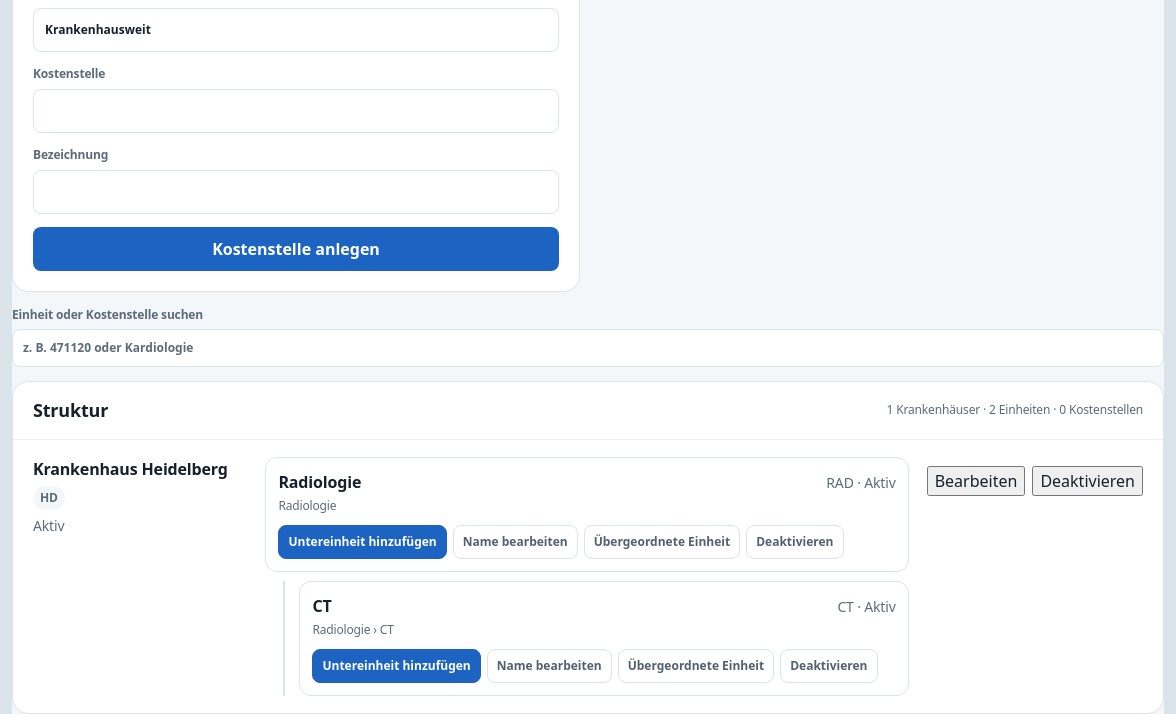
Test case: Organisationsstrukturverwaltung › legt eine Untereinheit mit der gewählten Elterneinheit an
(page scrolled)
Click the 1st button "Untereinheit hinzufügen": coordinates (363, 542) top-left (278, 525), bottom-right (447, 559)
(page scrolled)
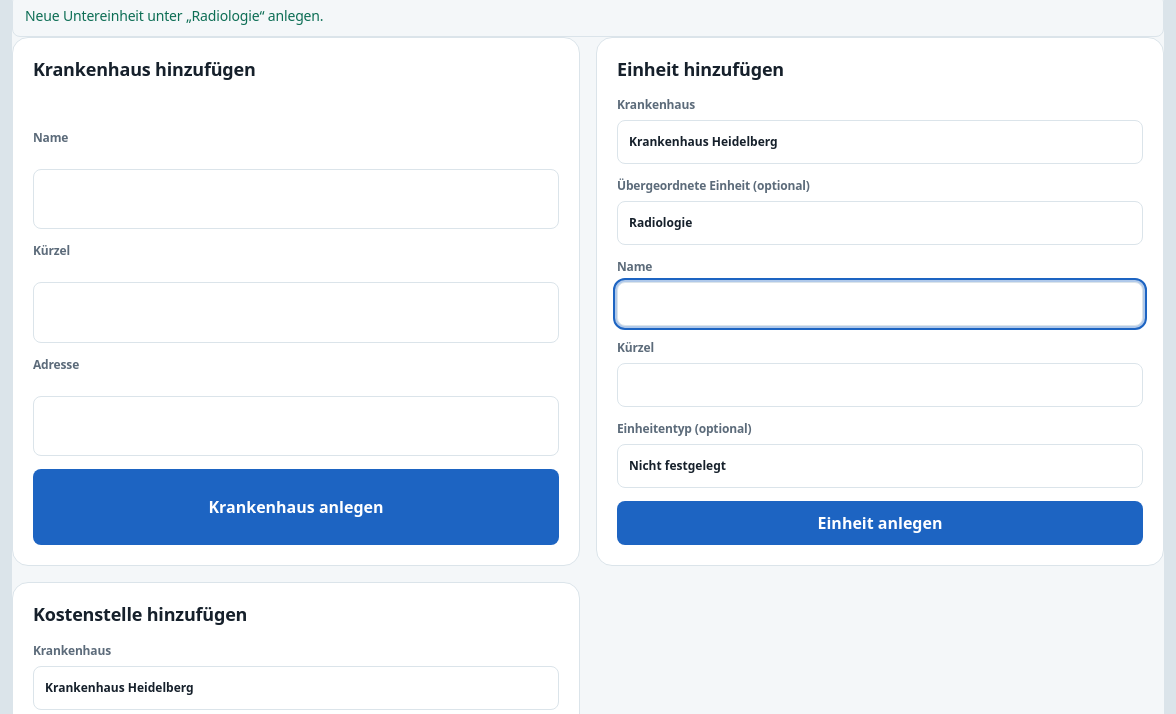
Expected: the form "Einheit hinzufügen" is shown, top-left (596, 37), bottom-right (1164, 566)
In the field labelled "Name" below "Übergeordnete Einheit (optional)": coordinates (880, 304) top-left (617, 282), bottom-right (1143, 326), type "Röntgen"
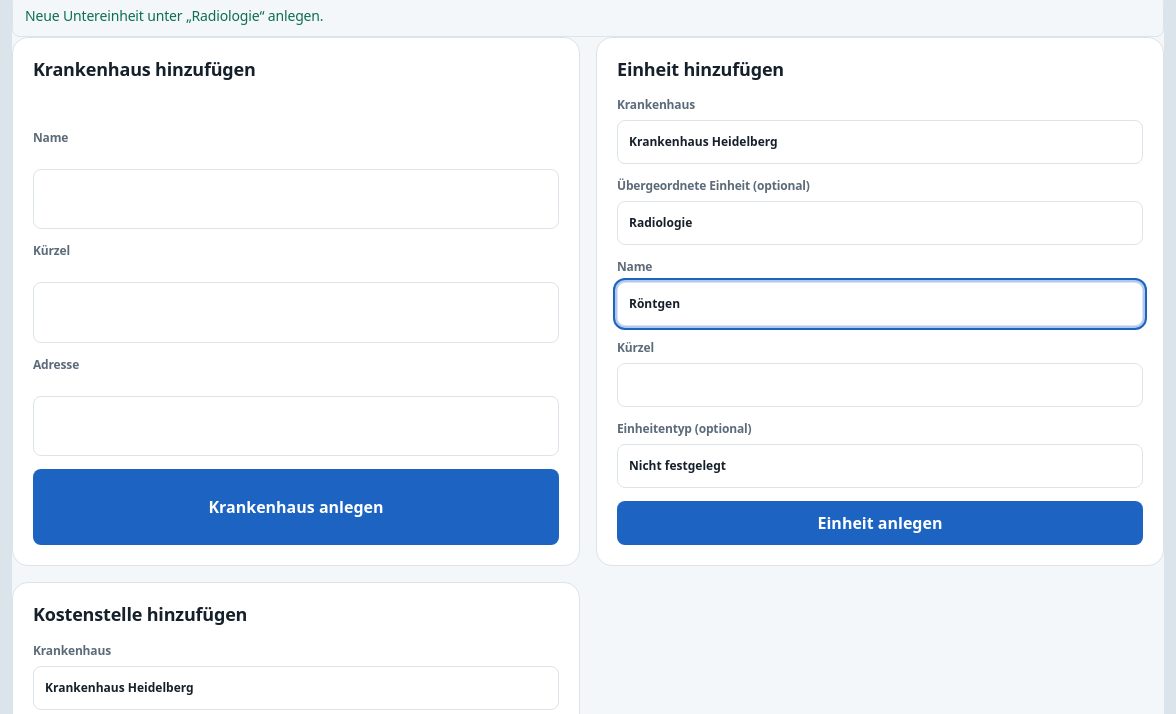
In the field labelled "Kürzel" below "Übergeordnete Einheit (optional)": coordinates (880, 385) top-left (617, 363), bottom-right (1143, 407), type "ROE"
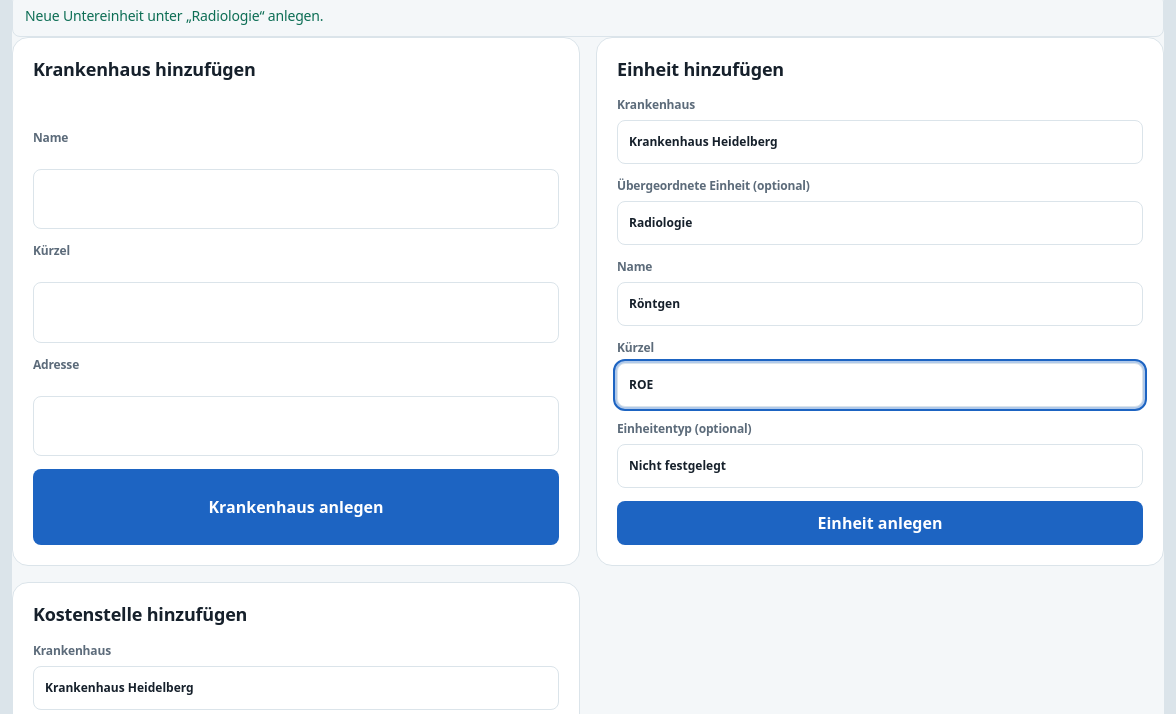
Click the button "Einheit anlegen": coordinates (880, 523) top-left (617, 501), bottom-right (1143, 545)
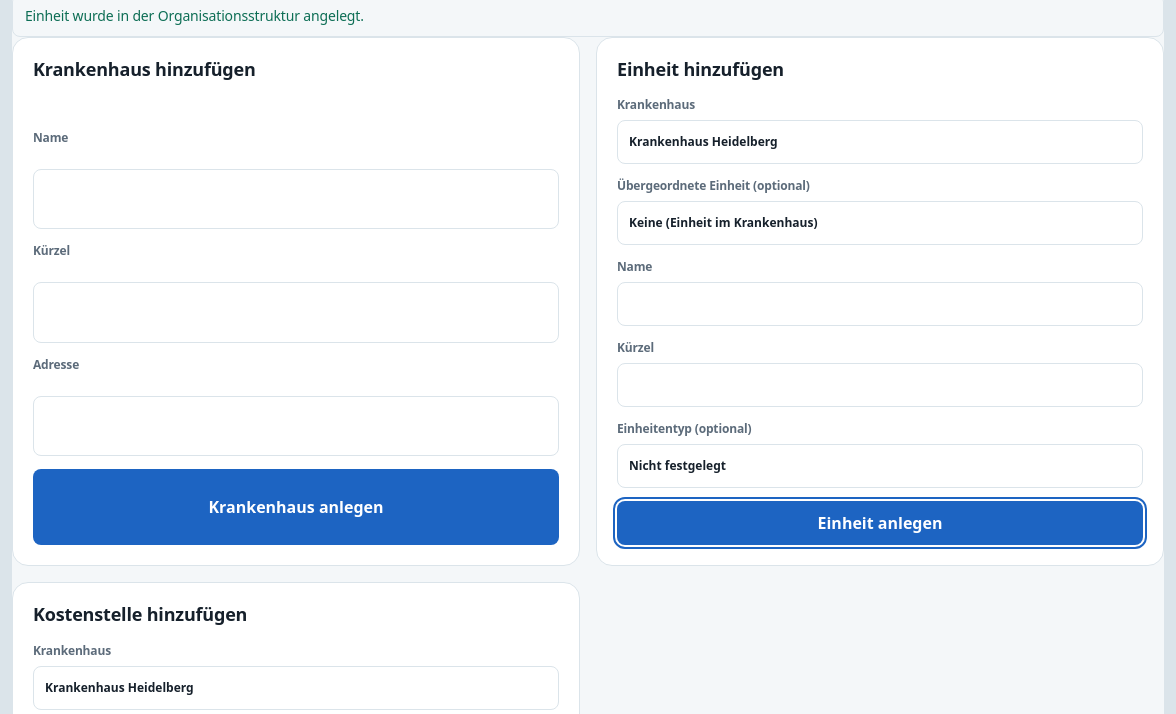
Now the message reads "Einheit wurde in der Organisationsstruktur angelegt.", box top-left (25, 6), bottom-right (364, 25)
